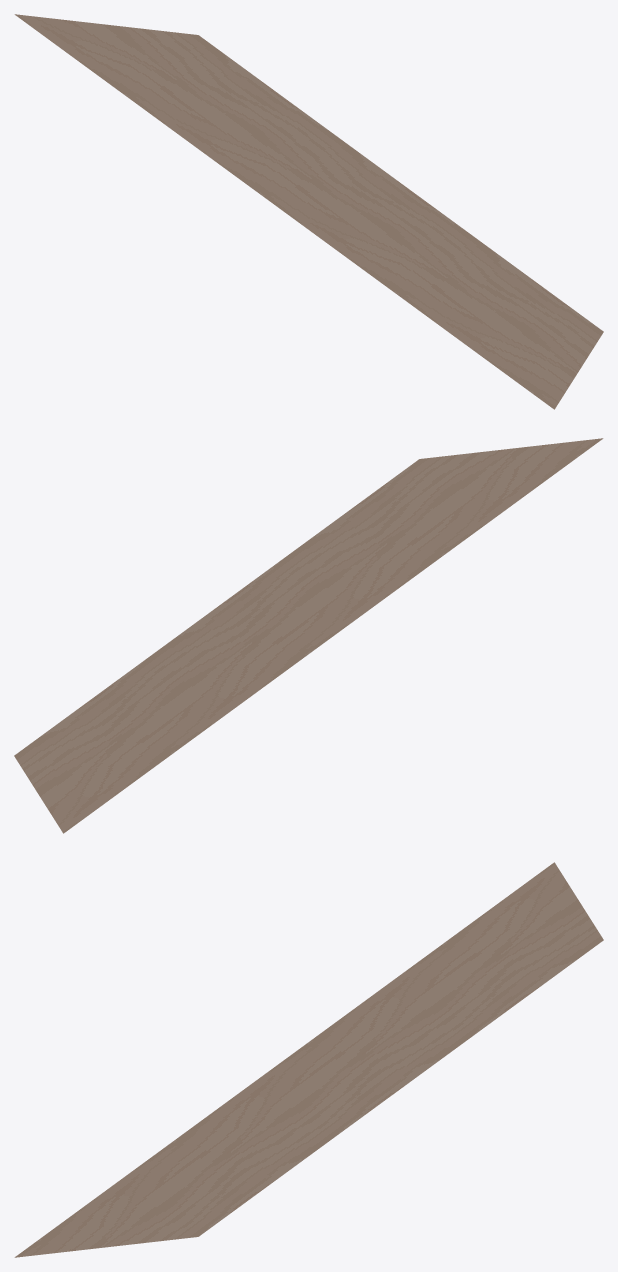
File: kd_stage_135b75_4_17_bounded_piece_3.glb
3 views of the same model, one above another, from view 1: azimuth 30°, elevation 25°; view 2: azimuth 150°, elevation 25°; view 3: azimuth 330°, elevation 25° (orthographic).
Parts seen in each view (by area): view 1: kd_stage_135b75_4_17_bounded_piece_3; view 2: kd_stage_135b75_4_17_bounded_piece_3; view 3: kd_stage_135b75_4_17_bounded_piece_3.
Part boxes in pixels (bbox=[...]): kd_stage_135b75_4_17_bounded_piece_3: bbox=[14, 14, 603, 409]; kd_stage_135b75_4_17_bounded_piece_3: bbox=[14, 438, 603, 833]; kd_stage_135b75_4_17_bounded_piece_3: bbox=[14, 862, 603, 1257].
Bounding box in the file's own units: 0.15 × 1.19e-06 × 1.2.
1 material, 1 textured.
